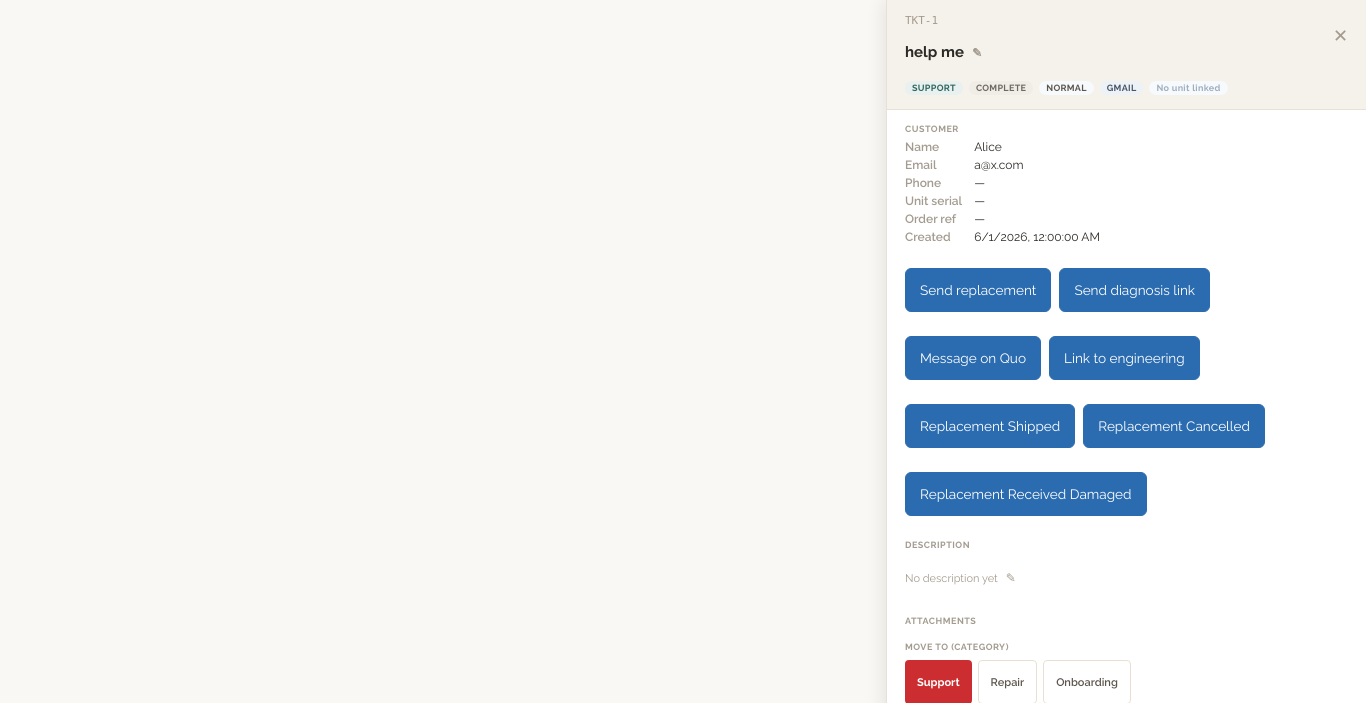
Scenario: TicketDetailPanel — replacement outcome buttons › cancels every live replacement on the ticket and clears the buttons
Check: the button "Replacement Shipped" is shown, box [905,404,1075,448]
Click the button "Replacement Cancelled".
click(1174, 426)  # box [1083,404,1265,448]
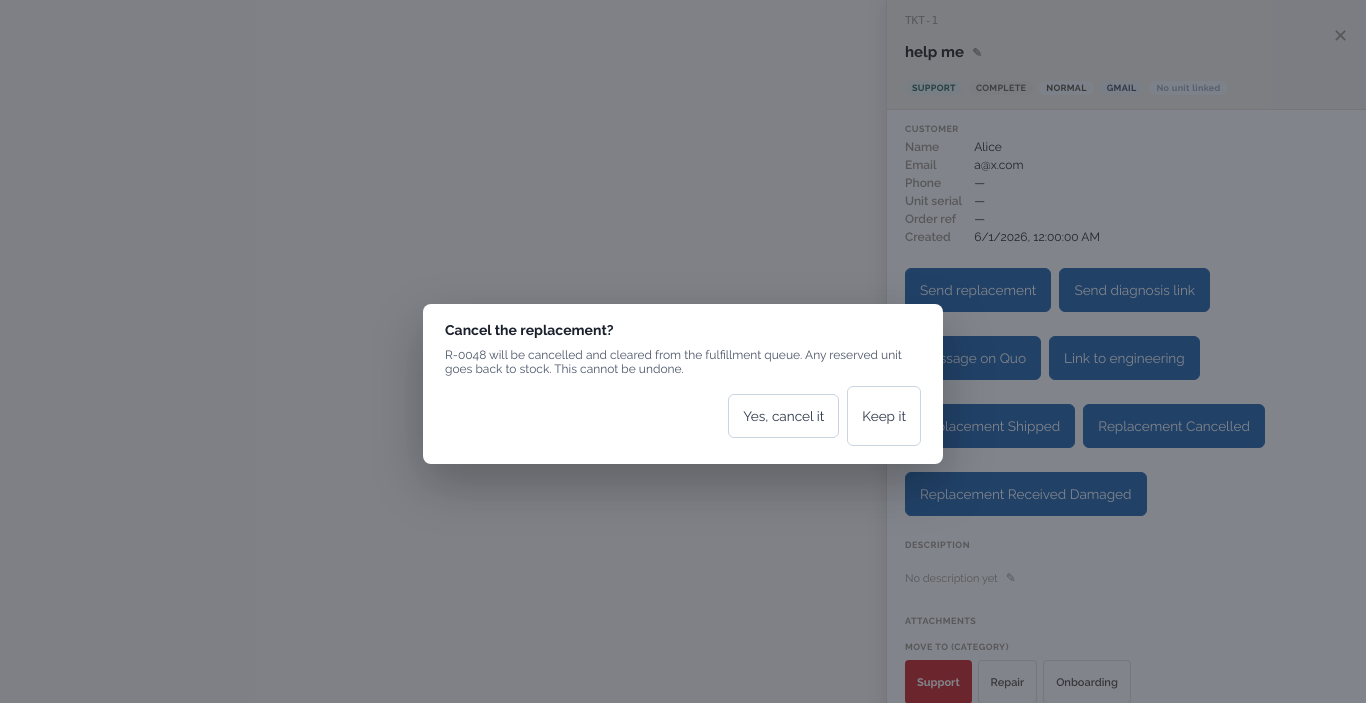
Click the button "Yes, cancel it".
click(784, 416)  # box [728,394,839,438]
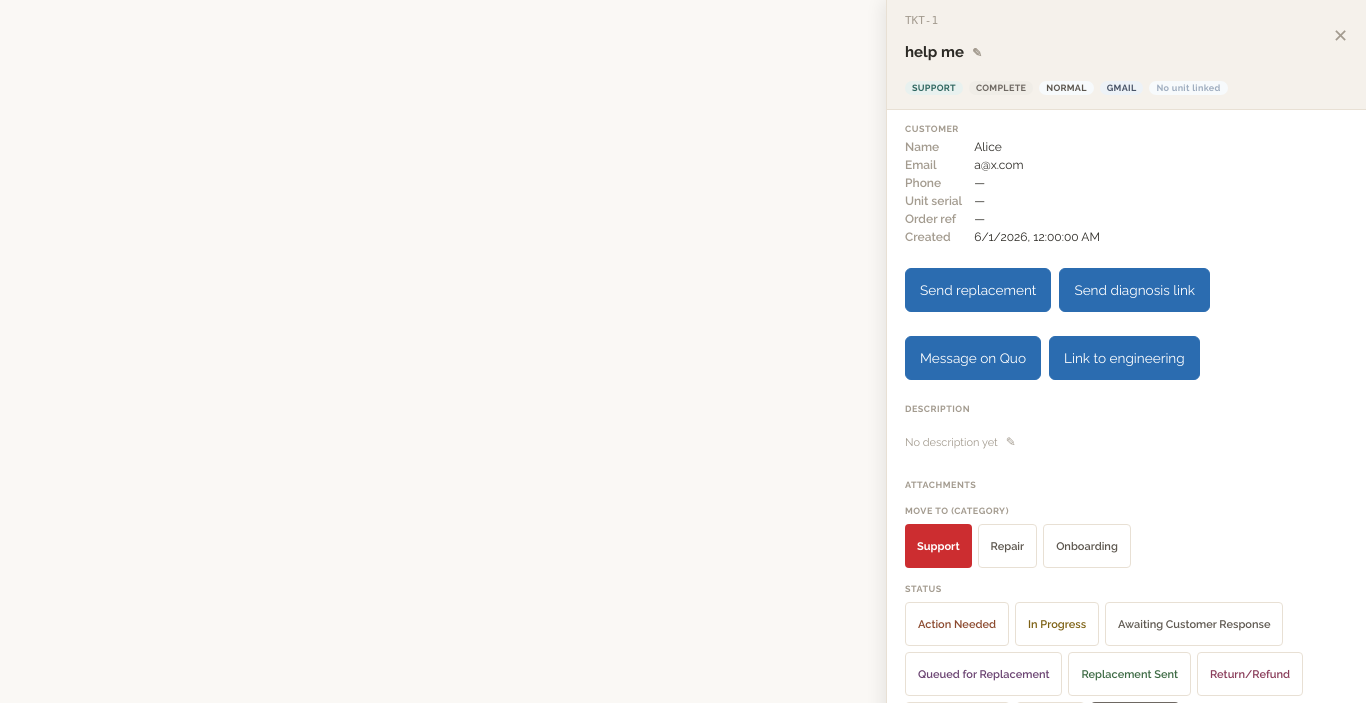
Check: the button "Replacement Cancelled" is gone
